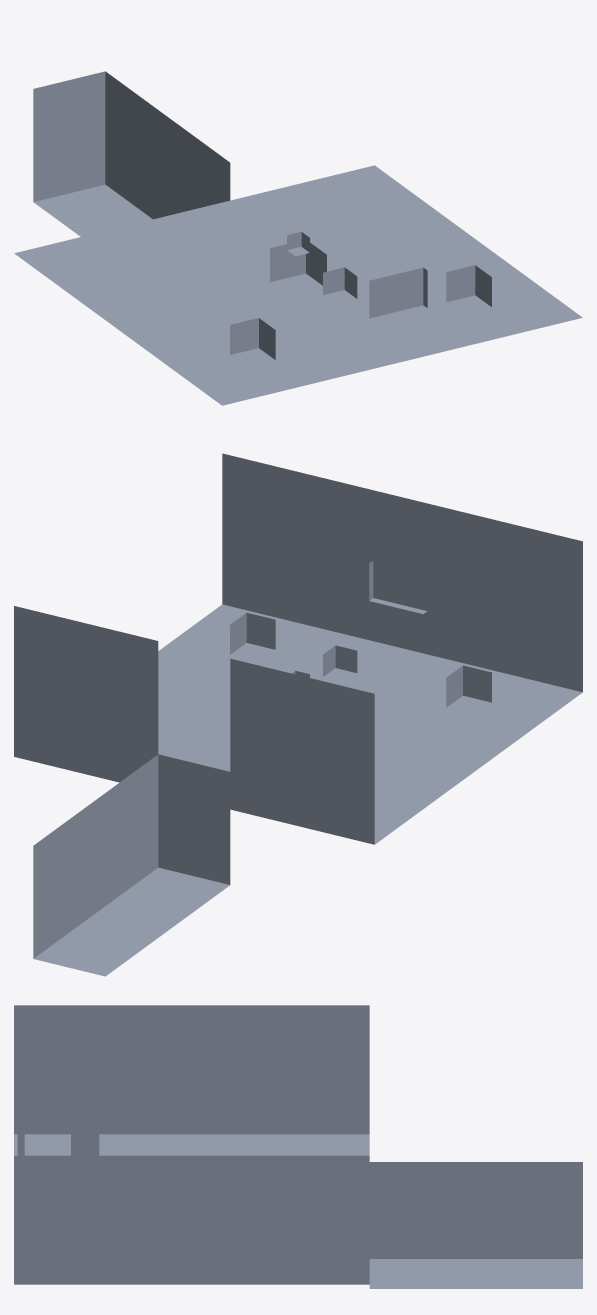
The model's file is side_alcove_greybox.gltf.
3 renders of one model, top to bottom at view 1: azimuth 30°, elevation 25°; view 2: azimuth 150°, elevation 25°; view 3: azimuth 270°, elevation 25°, orthographic. The views are drawn at different scales.
Bounding box in the file's own units: 10 × 6 × 16.
